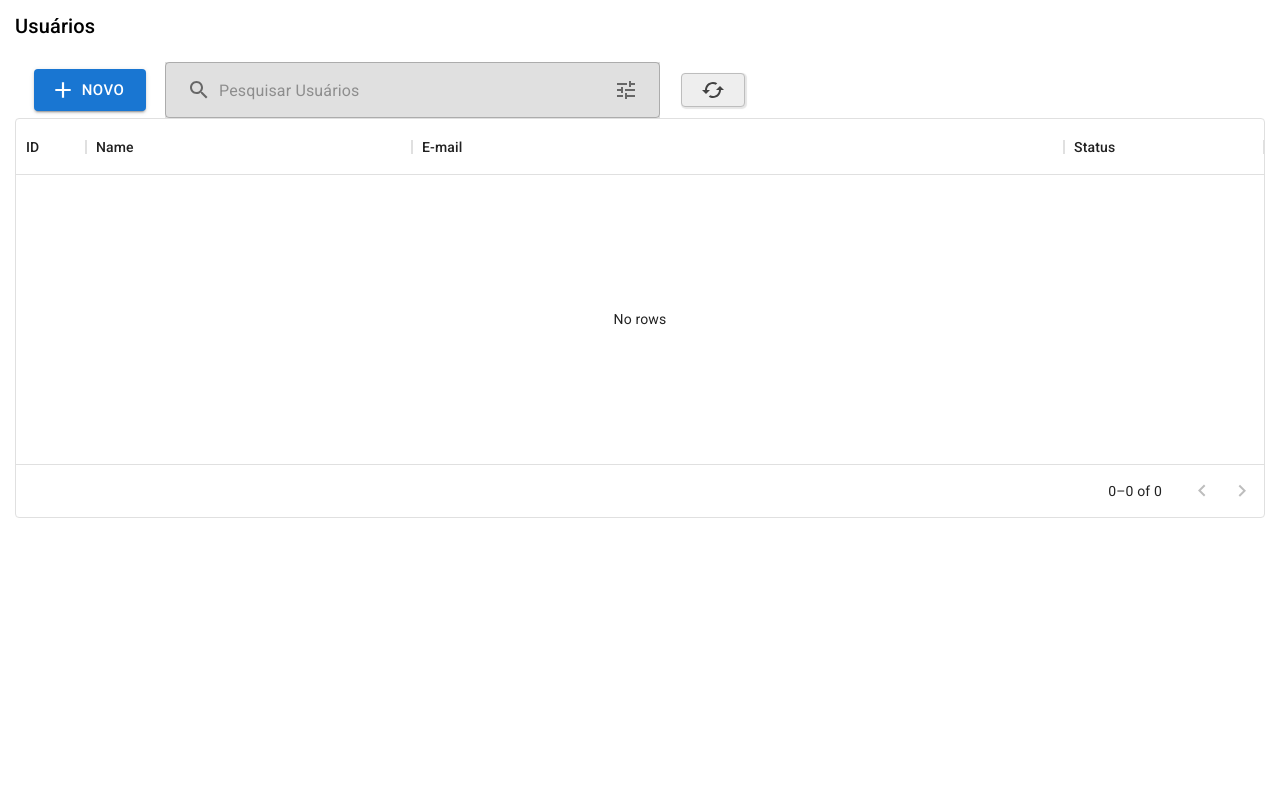
Test: user table header › should have the expected elements
Click the button with test id "new-user-button" at point(90, 90), box [34,69,146,111]
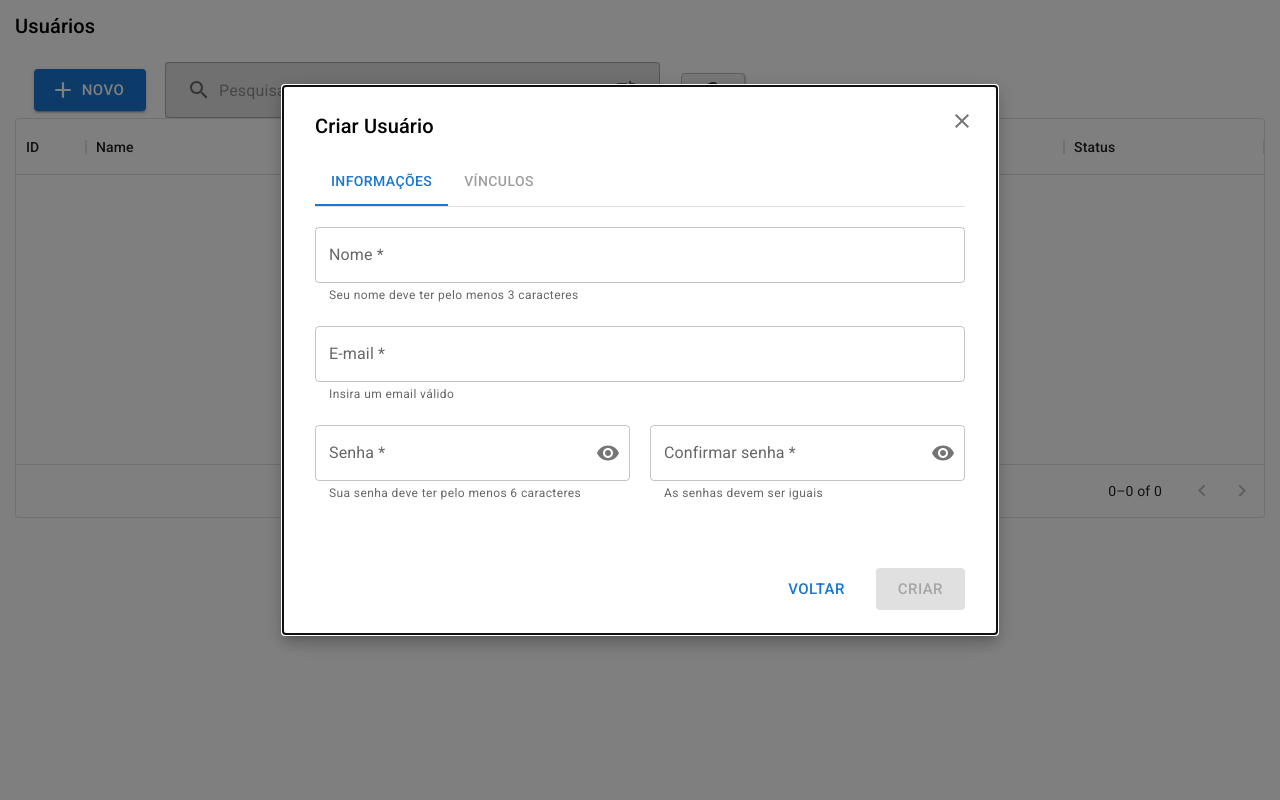
Expected: the field labelled "Nome *" is shown, [315,227,965,283]
Expected: the field labelled "E-mail *" is shown, [315,326,965,382]
Expected: the password field labelled "Senha *" is shown, [315,425,580,481]
